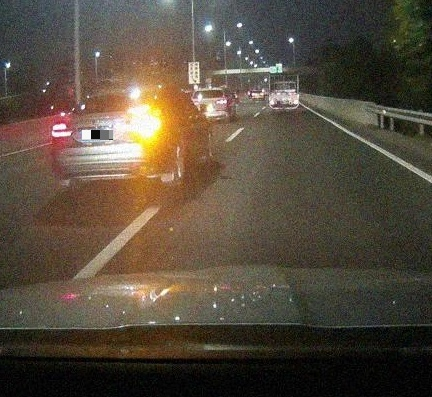L_light: (51, 122, 73, 138)
R_light: (129, 116, 162, 136)
T_light: (110, 92, 131, 98)
night-right: (49, 87, 170, 191)
plate_1: (82, 130, 113, 140)
